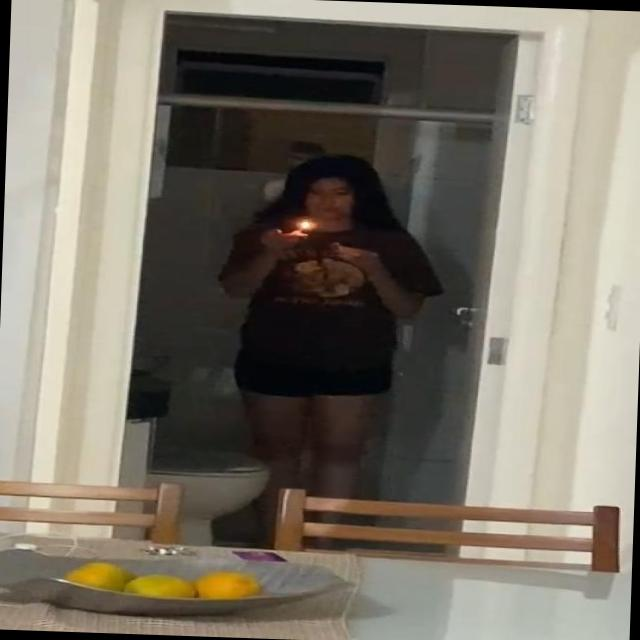Smoke: (294, 215, 319, 232)
